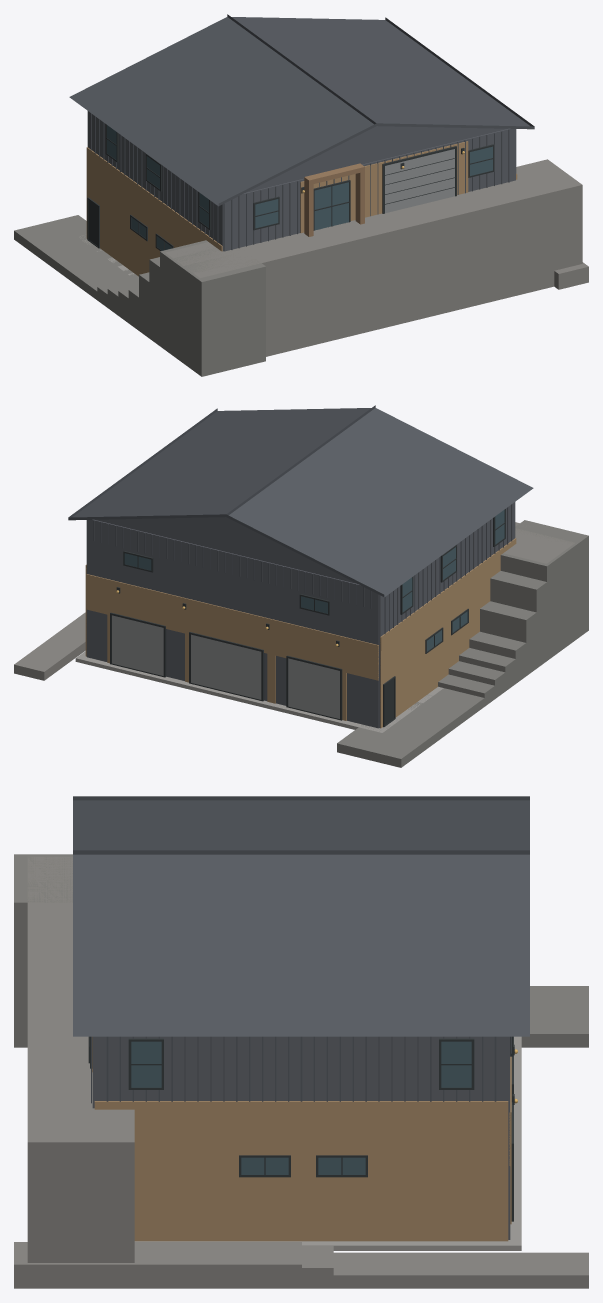
Rendered from walid_warehouse.glb.
The picture shows the model from 3 angles, top to bottom: view 1: azimuth 30°, elevation 25°; view 2: azimuth 150°, elevation 25°; view 3: azimuth 270°, elevation 25°; orthographic projection. The views are drawn at different scales.
Parts seen in each view (by area): view 1: c1, c10, c11, c2, c3, c5, c7, c6, c4; view 2: c1, c2, c3, c11, c7, c10, c6, c9, c5; view 3: c1, c10, c3, c2, c11, c5, c9, c6.
Part boxes in pixels (x1,y1,x2,y2): c1: (69,14,534,249); c10: (165,159,588,356); c11: (14,215,265,376); c2: (87,111,516,251); c3: (86,141,517,276); c5: (107,125,492,250); c7: (385,149,454,213); c6: (87,124,494,251); c4: (300,163,364,236); c1: (68,405,533,633); c2: (86,502,515,728); c3: (85,538,516,728); c11: (337,520,588,767); c7: (112,615,339,718); c10: (14,522,574,680); c6: (110,509,505,727); c9: (75,651,443,732); c5: (124,510,504,651); c1: (73,796,529,1103); c10: (14,856,588,1288); c3: (92,1037,511,1241); c2: (92,1036,510,1239); c11: (14,854,588,1047); c5: (131,1041,471,1174); c9: (134,1036,521,1250); c6: (88,1036,514,1221).
Size of the model in its own units: 20.47 by 9.71 by 17.2.
